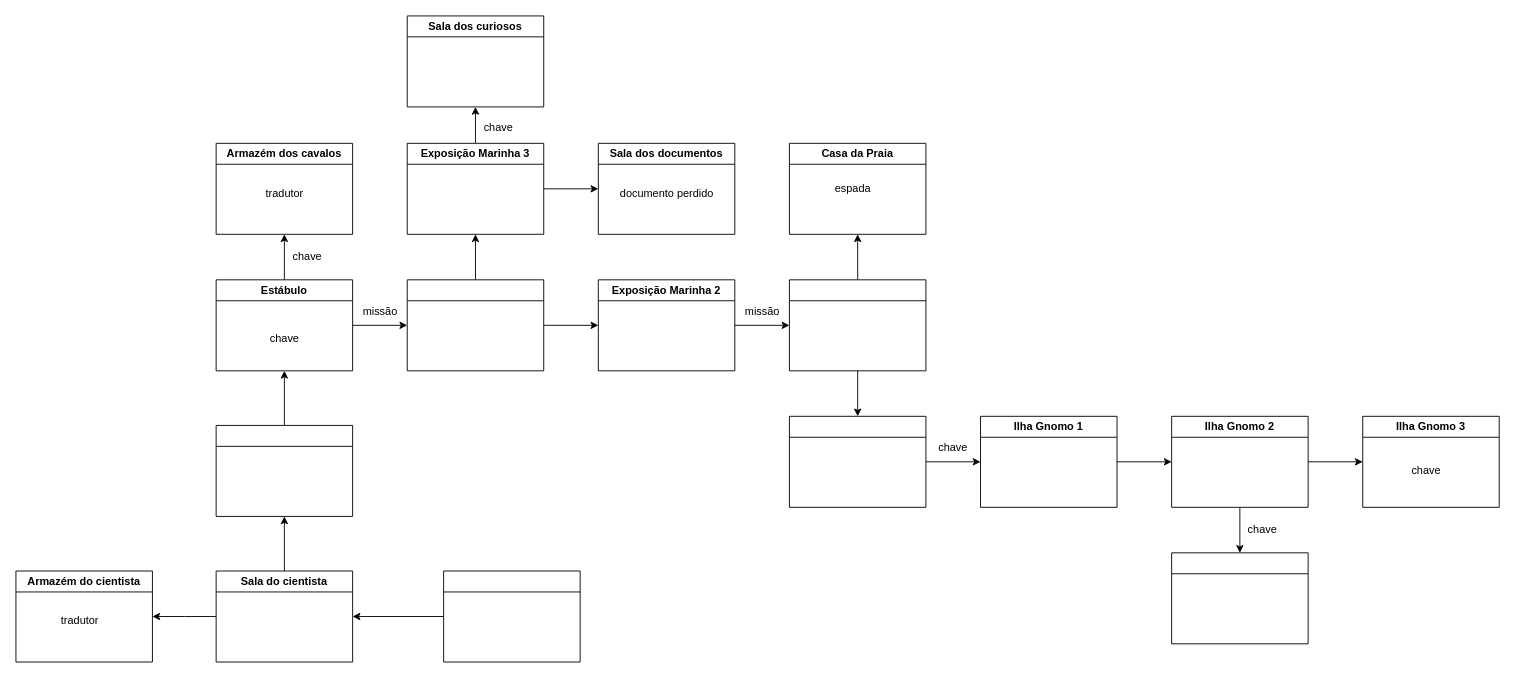
The diagram is 1515 pixels wide and 678 high, and some of its shapes have lost their labels. The shapes that lost their labels are listed below. From the top down, each one's centre as x and y in pixels, then its label:
point (475, 325): Exposição Marinha 1
point (857, 325): Praia
point (284, 470): Pocilga
point (857, 461): Fogueira da praia
point (511, 616): Palco Inicial
point (1239, 598): Ilha Gnomo 4
